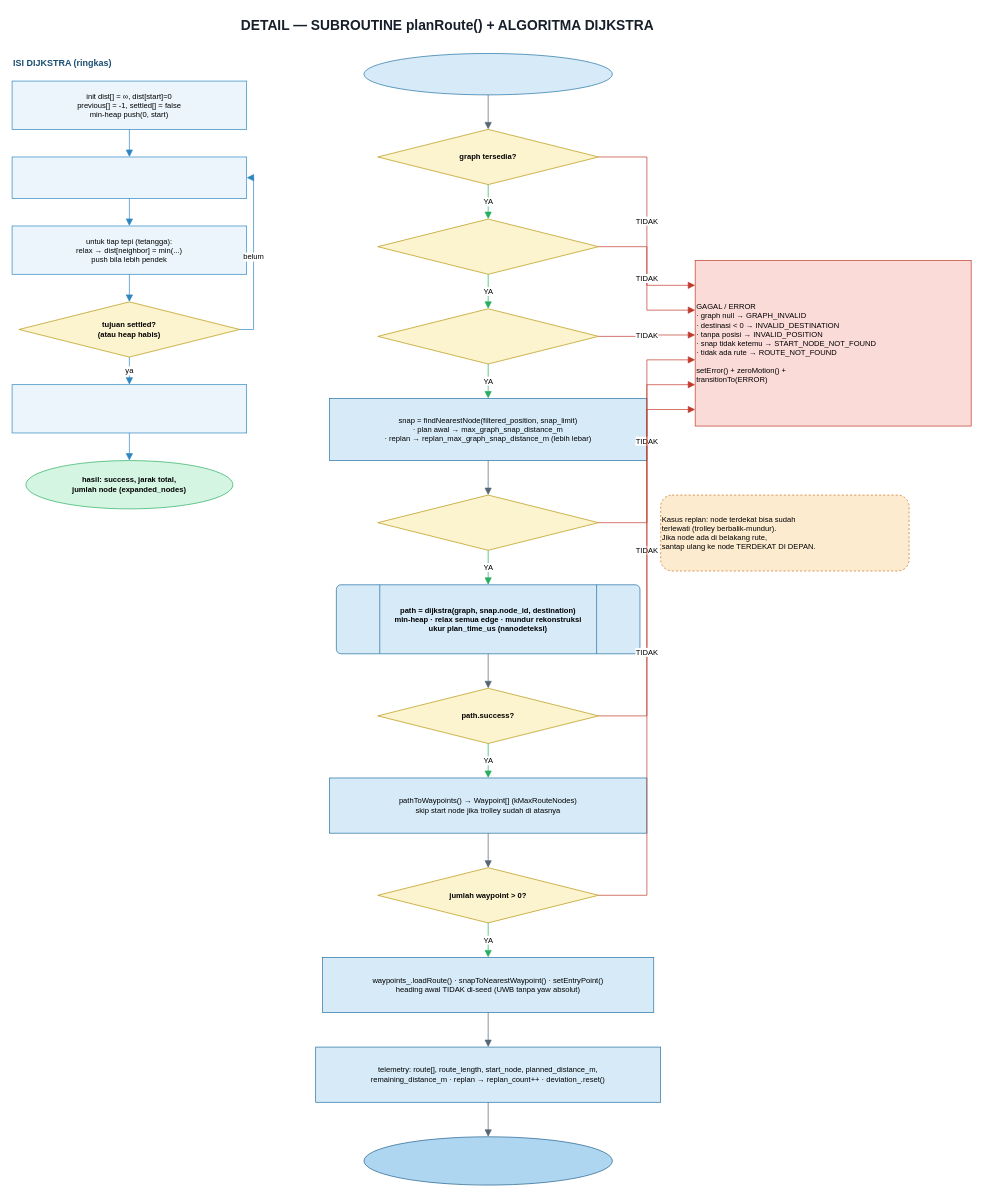
The diagram is 983 pixels wide and 1197 high, and some of its shapes have lost their labels. Here are the shapes that lost their labels. From the top down, the centre of each, then its label:
the point at 487,74: MASUK: planRoute(is_replan)
the point at 129,177: selama heap tidak kosong: pop node dg jarak terkecil
the point at 488,246: destination_node ≥ 0?
the point at 488,336: has_position (ada posisi valid)?
the point at 129,408: rekonstruksi jalur mundur dari tujuan → reverse → node_ids[]
the point at 488,522: snap.found?
the point at 487,1160: SELESAI planRoute transitionTo(NAVIGATING)
